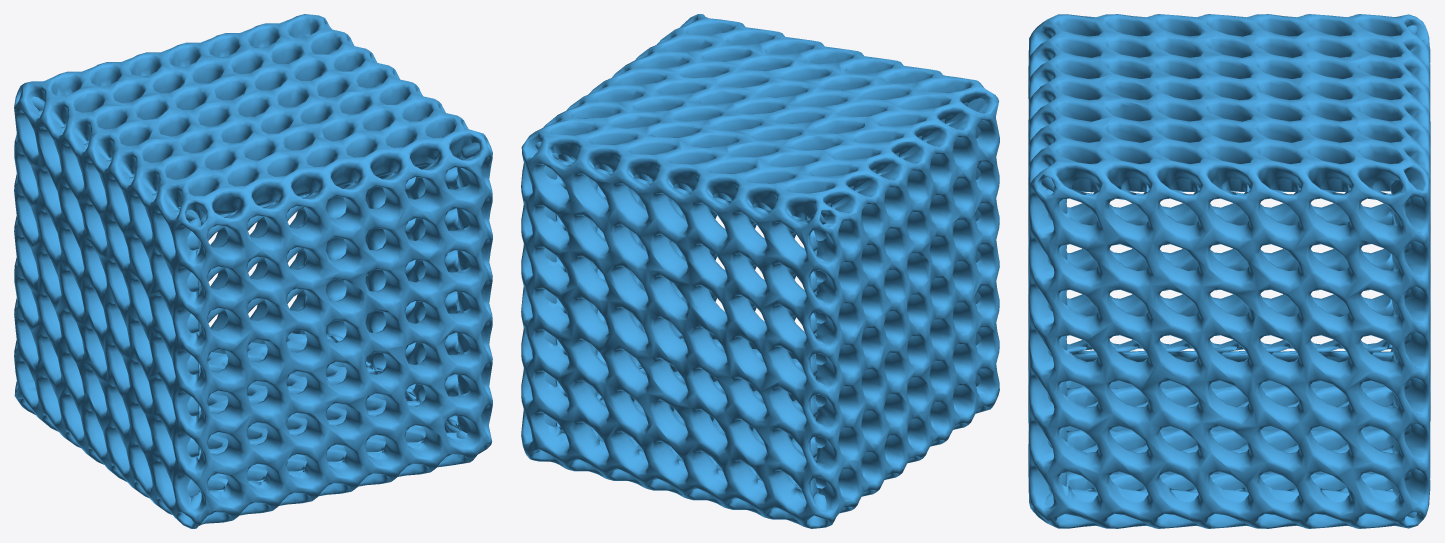
Rendered from decorative_cube.glb.
3 views of the same model, side by side, from view 1: azimuth 30°, elevation 25°; view 2: azimuth 150°, elevation 25°; view 3: azimuth 270°, elevation 25° (orthographic). The views are drawn at different scales.
Parts seen in each view (by area): view 1: decorative_cube_target; view 2: decorative_cube_target; view 3: decorative_cube_target.
Part boxes in pixels (<box>): decorative_cube_target: <box>14,14,492,528</box>; decorative_cube_target: <box>521,14,999,528</box>; decorative_cube_target: <box>1028,14,1430,528</box>.
Size of the model in its own units: 0.294 by 0.294 by 0.294.
